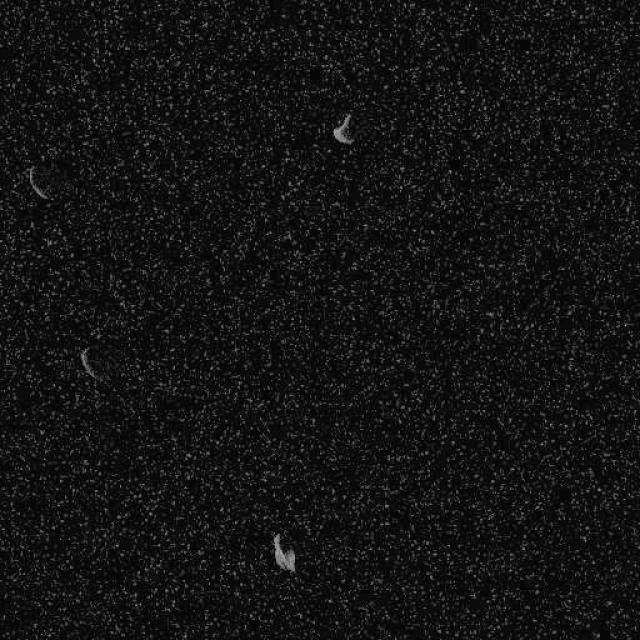D2: (272, 531, 296, 574), (27, 162, 52, 202), (77, 346, 101, 382), (331, 113, 355, 145)
